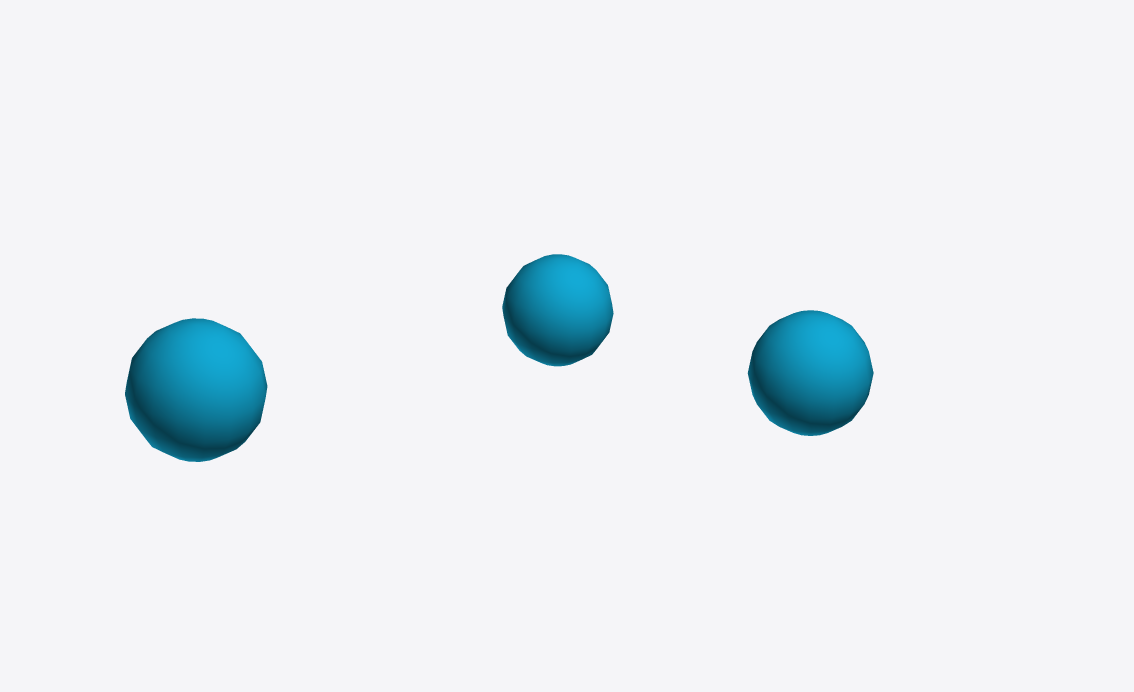
The model's file is m_navi_892ca6ec.glb.
The picture shows the model from 3 angles, left to right: view 1: azimuth 30°, elevation 25°; view 2: azimuth 150°, elevation 25°; view 3: azimuth 270°, elevation 25°; orthographic projection. The views are drawn at different scales.
Bounding box in the file's own units: 0.7426 × 1.64 × 0.9776.
Materials: 1 (1 with a texture image).
